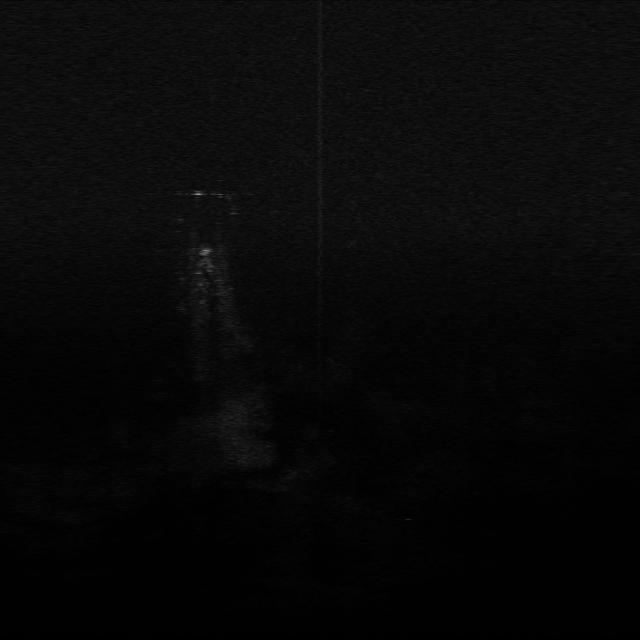rov: (196, 245, 213, 259)
